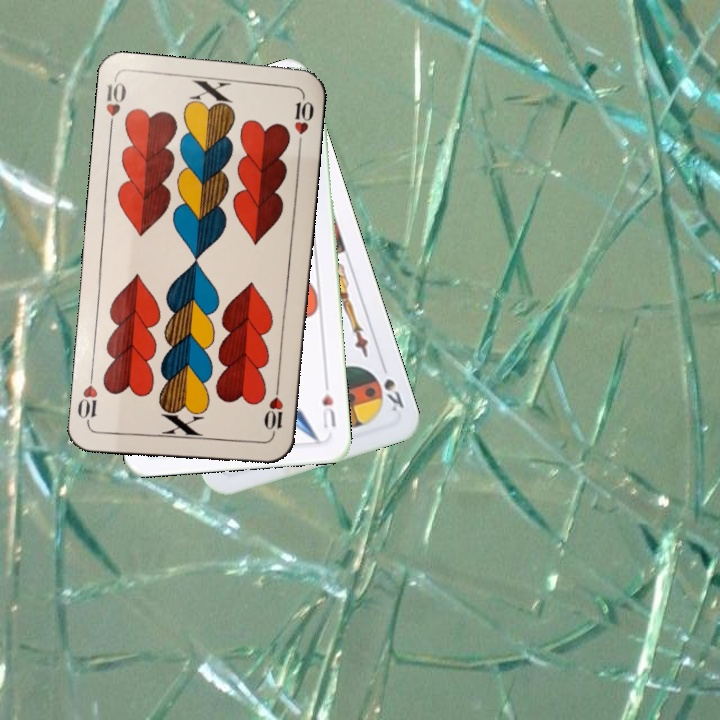H10: (102, 76, 129, 135), (261, 381, 286, 440)
HU: (318, 378, 339, 431)
SK: (379, 374, 407, 414)
